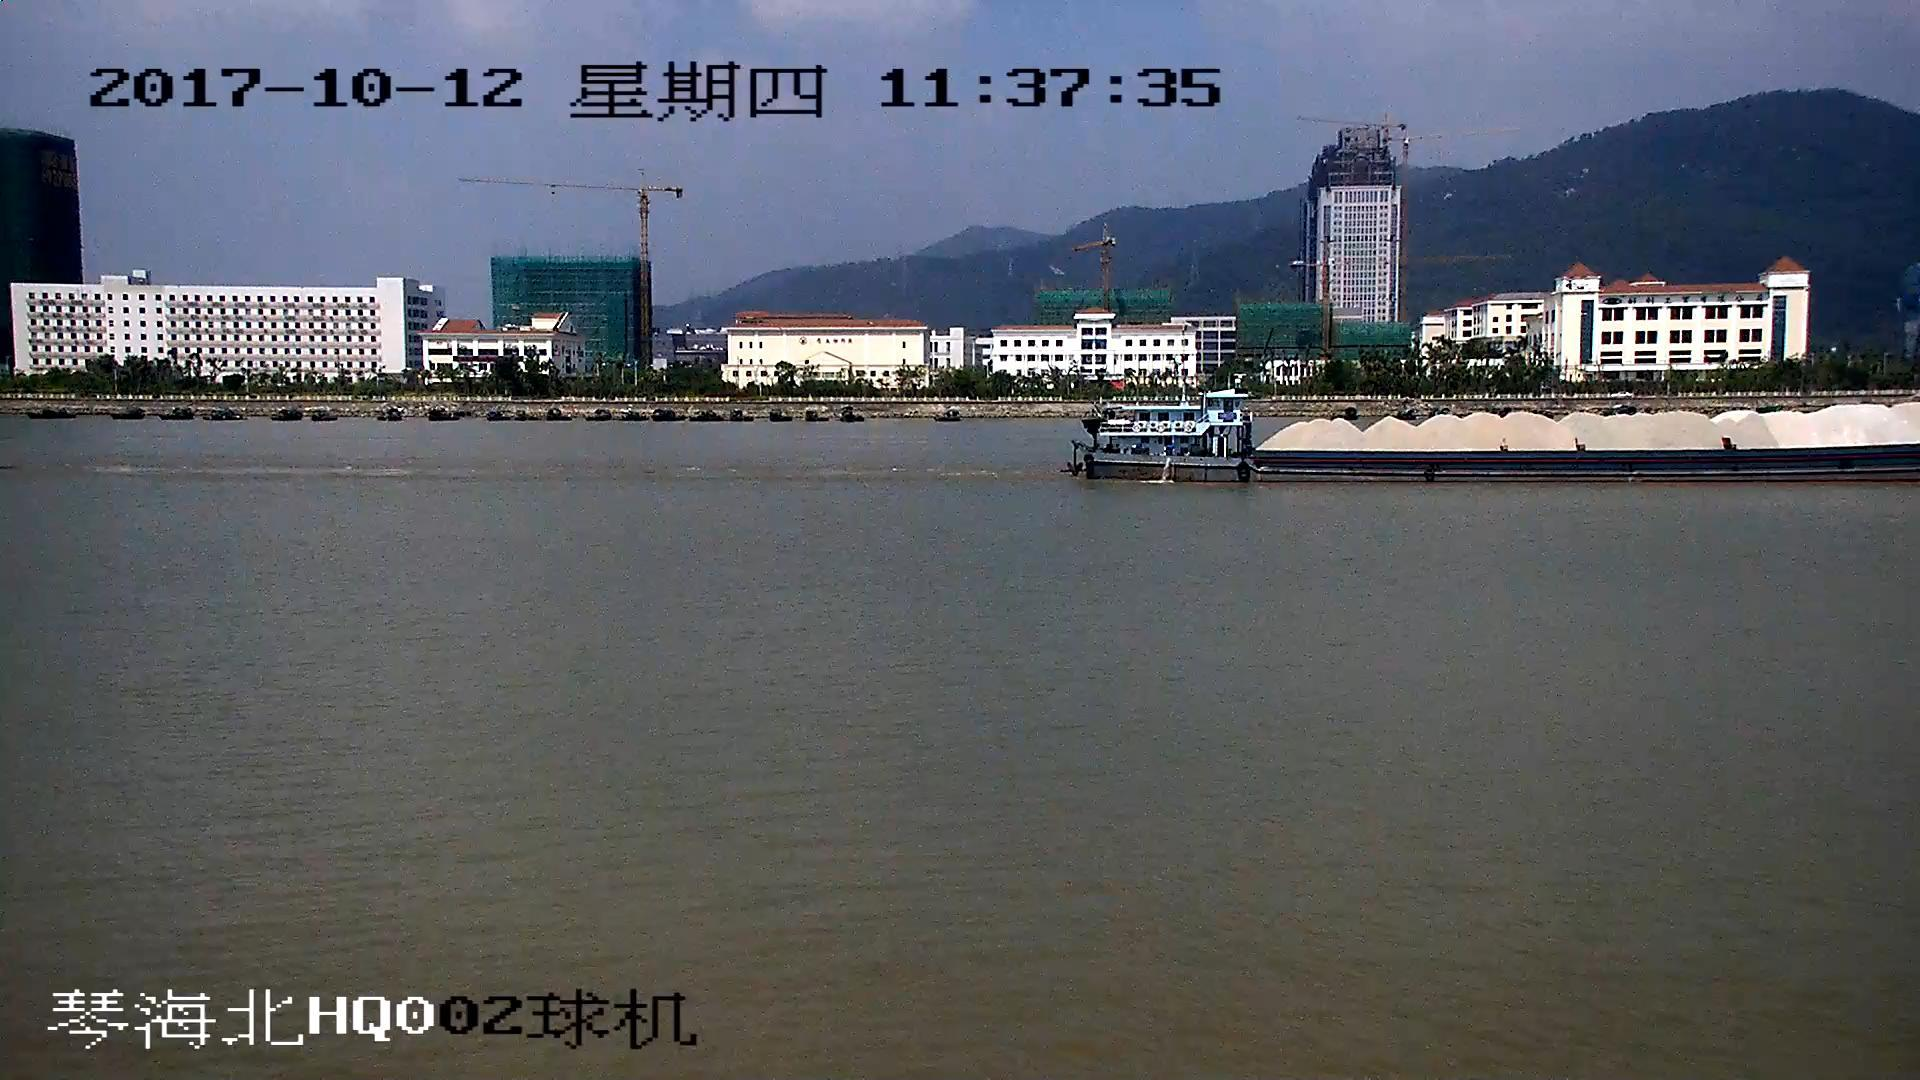Ship: (1083, 393, 1920, 487)
